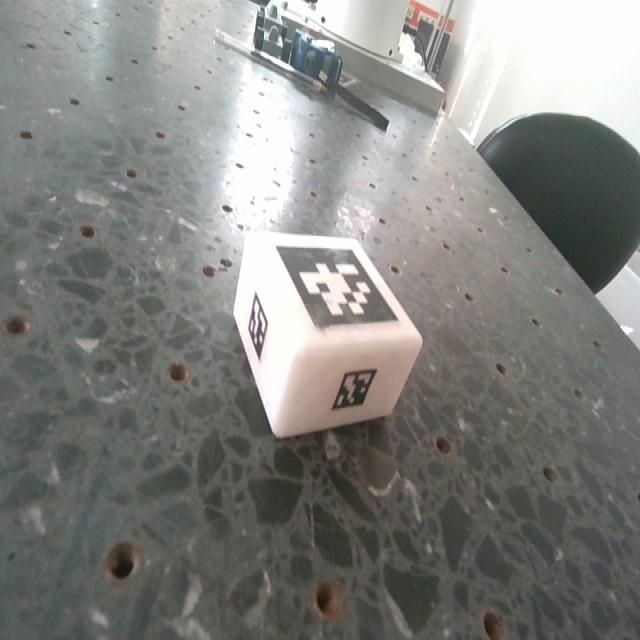Cube: (229, 231, 424, 433)
